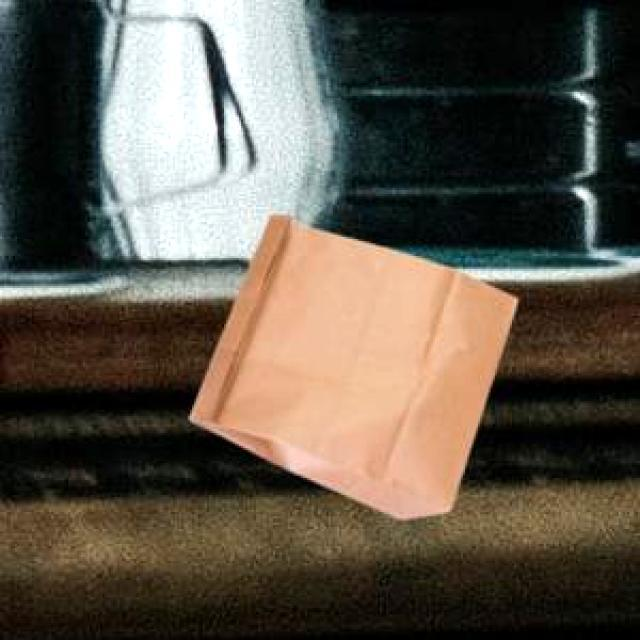Paper_Bag: (187, 212, 516, 515)
